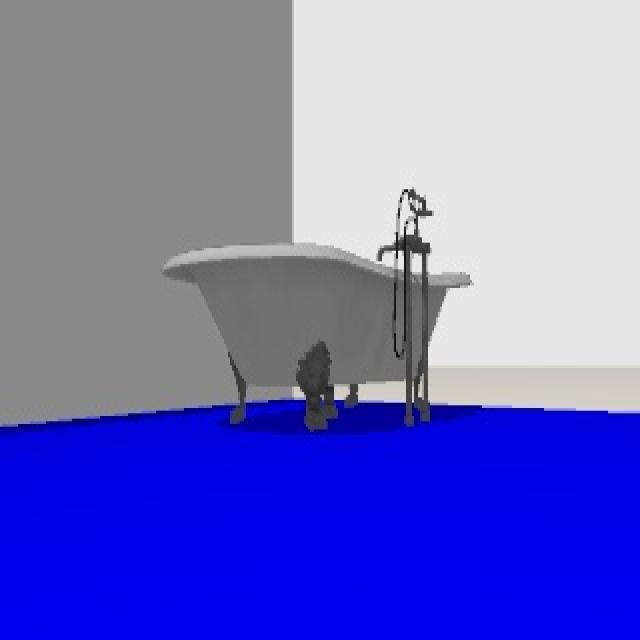bathtub: (168, 184, 466, 438)
